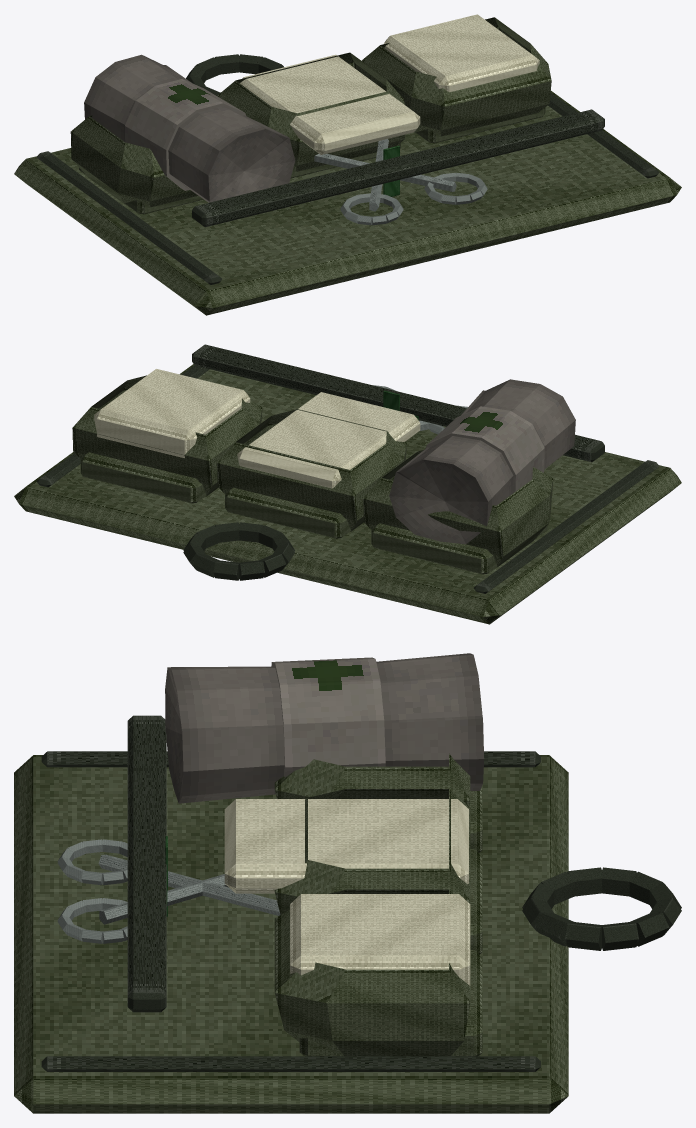
The model's file is blender_health_supplies_3_open.glb.
The picture shows the model from 3 angles, top to bottom: view 1: azimuth 30°, elevation 25°; view 2: azimuth 150°, elevation 25°; view 3: azimuth 270°, elevation 25°; orthographic projection. The views are drawn at different scales.
Parts seen in each view (by area): view 1: blender_health_supplies_3_open; view 2: blender_health_supplies_3_open; view 3: blender_health_supplies_3_open.
Boxes of the visible parts, box(x1,y1,x2,y2) form: blender_health_supplies_3_open: box(14, 14, 681, 315); blender_health_supplies_3_open: box(14, 344, 681, 624); blender_health_supplies_3_open: box(14, 653, 681, 1113).
Size of the model in its own units: 0.29 by 0.0714 by 0.2408.
6 materials, 6 textured.
